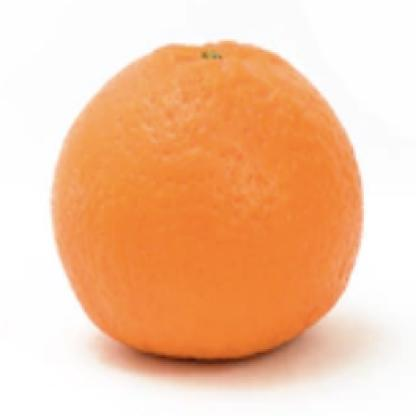fresh: (53, 41, 360, 361)
